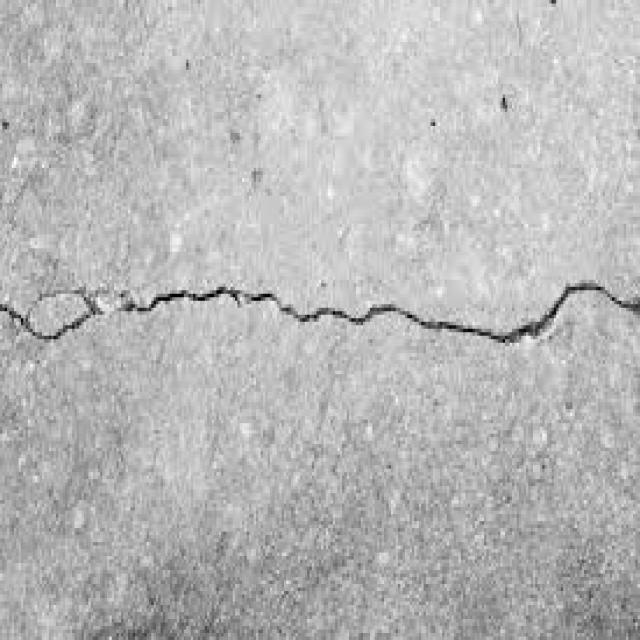crack: (124, 284, 639, 343)
